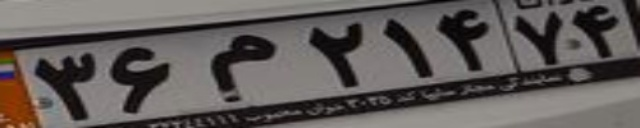1: (382, 16, 434, 77)
2: (307, 21, 368, 87)
3: (32, 50, 94, 121)
4: (435, 9, 490, 71), (571, 4, 618, 59)
6: (108, 45, 170, 114)
7: (508, 10, 562, 65)
mim: (206, 31, 280, 101)
